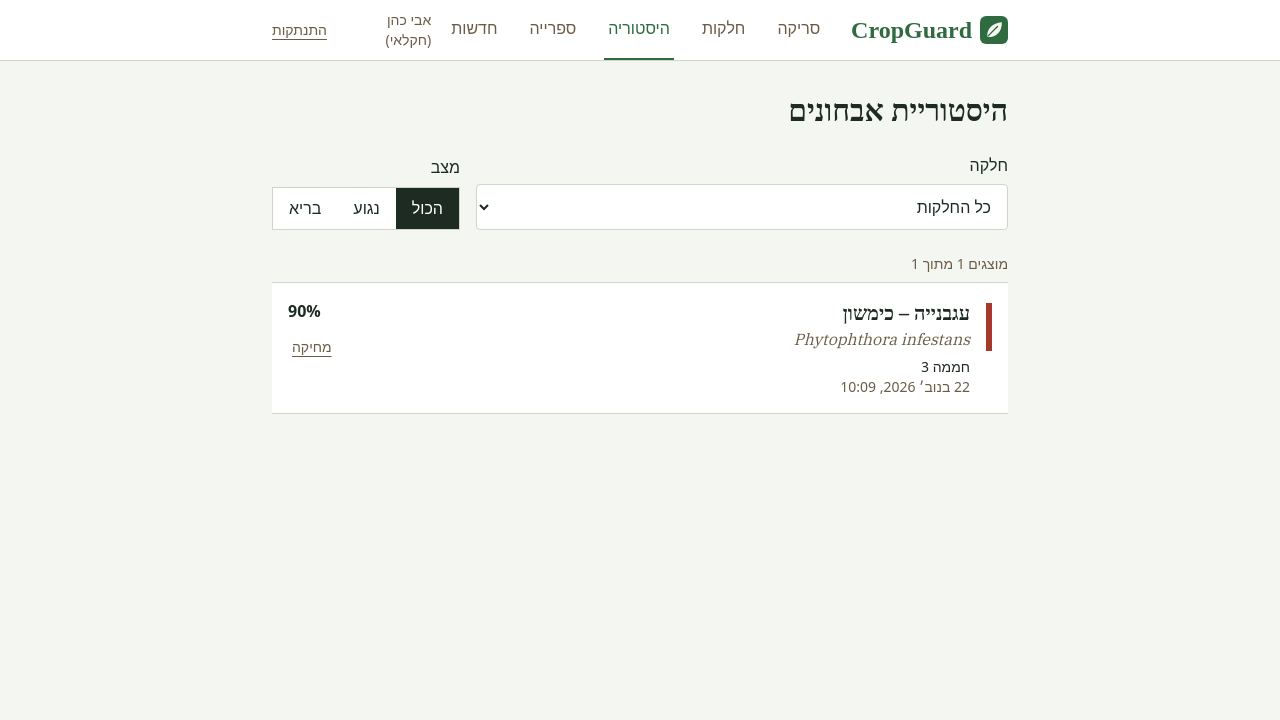
Test: history page › deleting a diagnosis › shows a Hebrew error and keeps the row when deletion fails
Click the button with aria-label "מחיקת האבחון": (312, 347) 288,333 -> 336,361
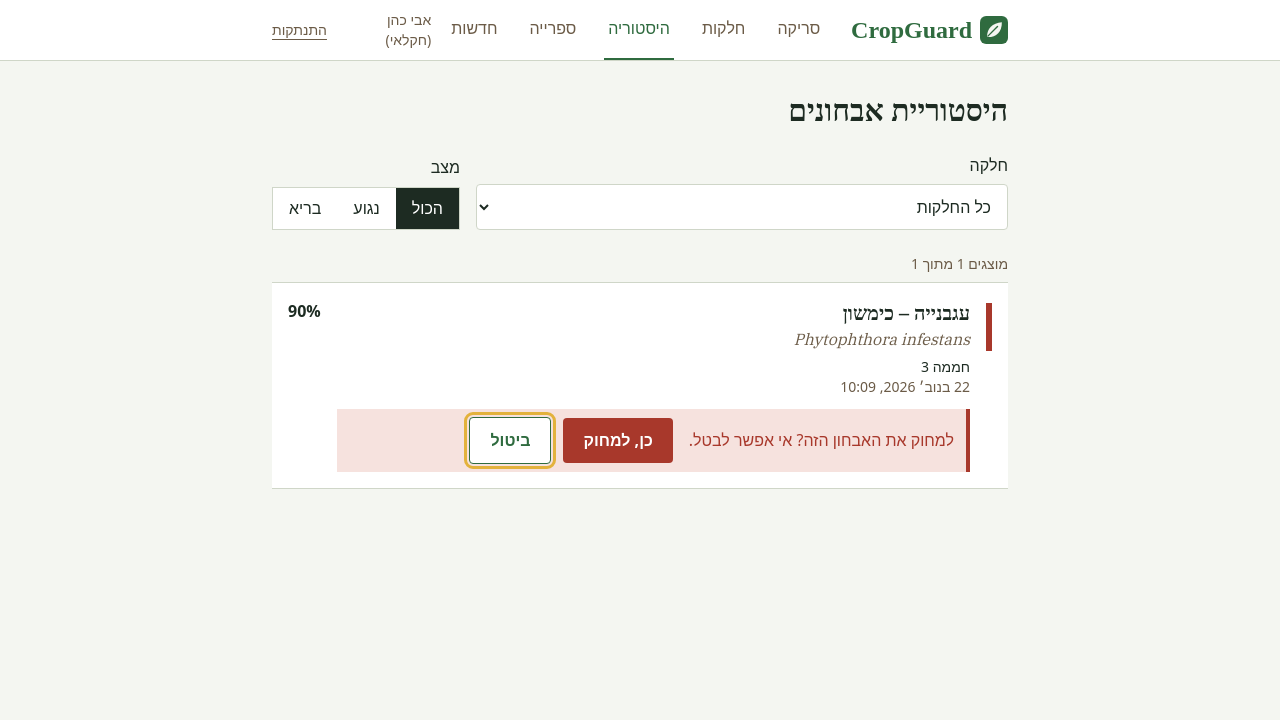
Click the button "כן, למחוק": (618, 441) 564,418 -> 673,463
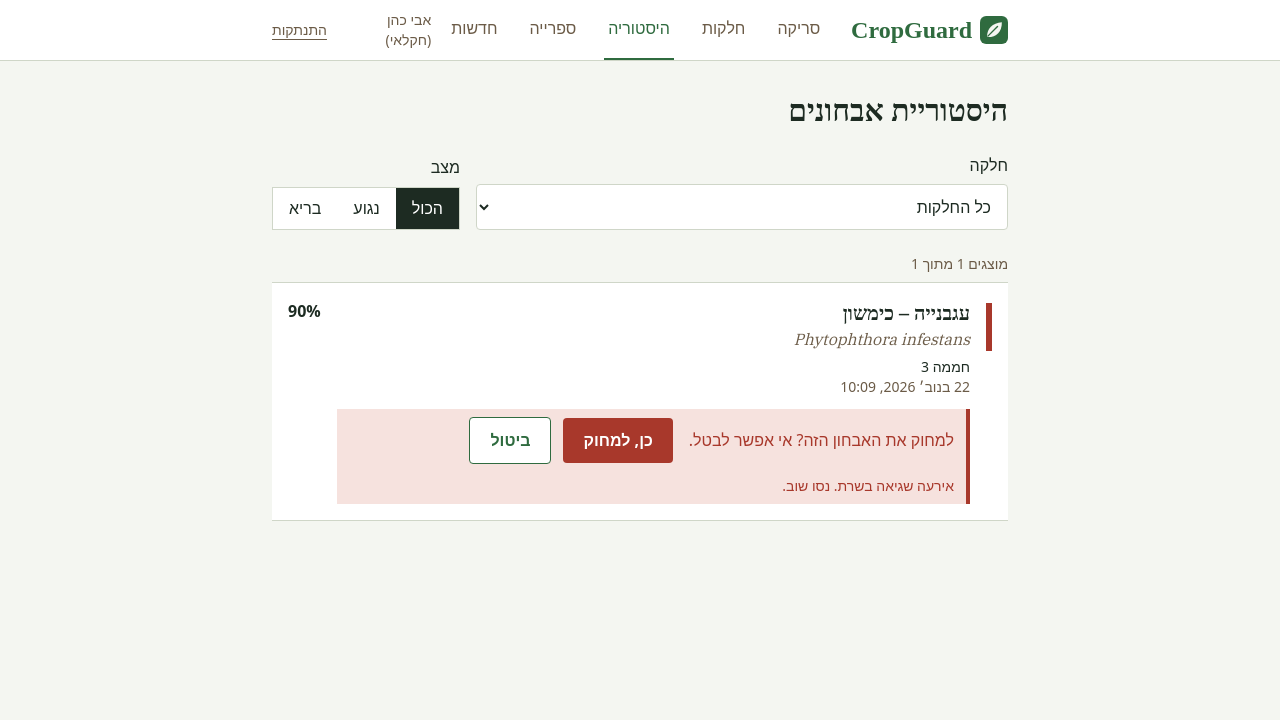
Check: the number of list items is 1, box 272,283 -> 1008,520
Check: the message shows "אירעה שגיאה בשרת", box 782,476 -> 954,495
